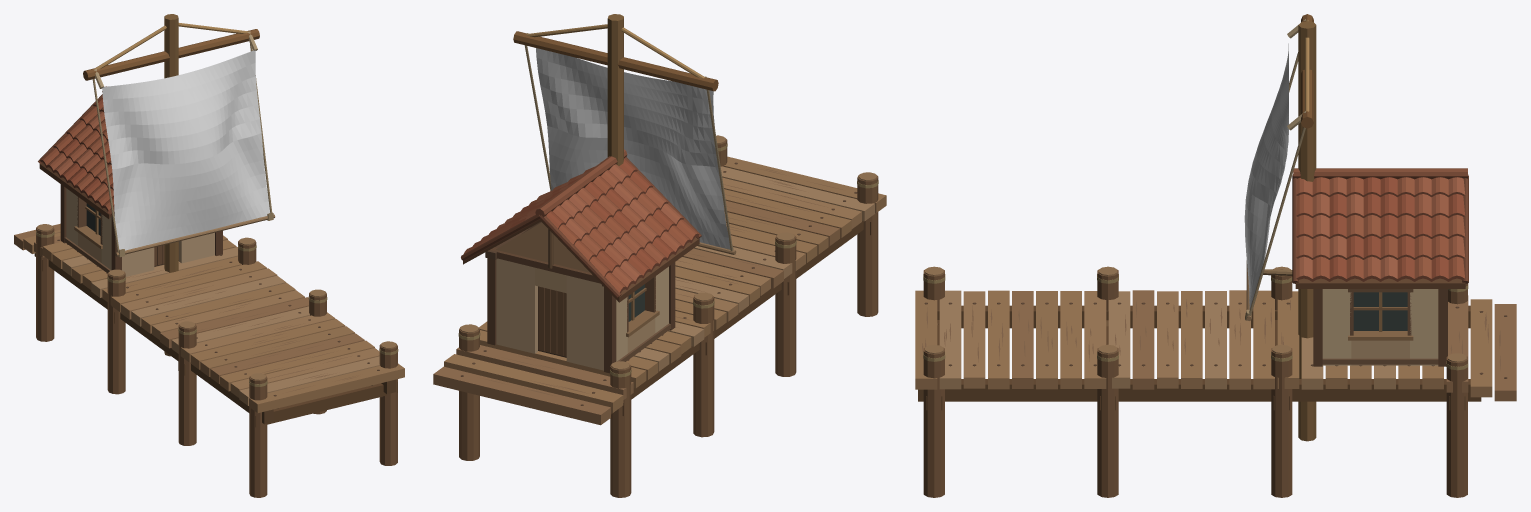
The model's file is harbor-house.fbx.
3 renders of one model, left to right at view 1: azimuth 30°, elevation 25°; view 2: azimuth 150°, elevation 25°; view 3: azimuth 270°, elevation 25°, orthographic. The views are drawn at different scales.
Parts seen in each view (by area): view 1: CoastalWalkway, HarborFlag, HarborHouse, HarborMast; view 2: CoastalWalkway, HarborHouse, HarborFlag, HarborMast; view 3: CoastalWalkway, HarborHouse, HarborMast, HarborFlag.
Part boxes in pixels (box(x1,y1,x2,y2)): CoastalWalkway: box(14, 223, 404, 497); HarborFlag: box(102, 50, 270, 250); HarborHouse: box(38, 86, 222, 276); HarborMast: box(83, 14, 275, 356); CoastalWalkway: box(433, 135, 886, 497); HarborHouse: box(461, 149, 701, 373); HarborFlag: box(536, 48, 730, 249); HarborMast: box(513, 14, 736, 254); CoastalWalkway: box(915, 266, 1516, 497); HarborHouse: box(1292, 168, 1468, 366); HarborMast: box(1245, 14, 1316, 441); HarborFlag: box(1244, 43, 1288, 309).
Size of the model in its own units: 0.0133 by 0.0259 by 0.0329.
